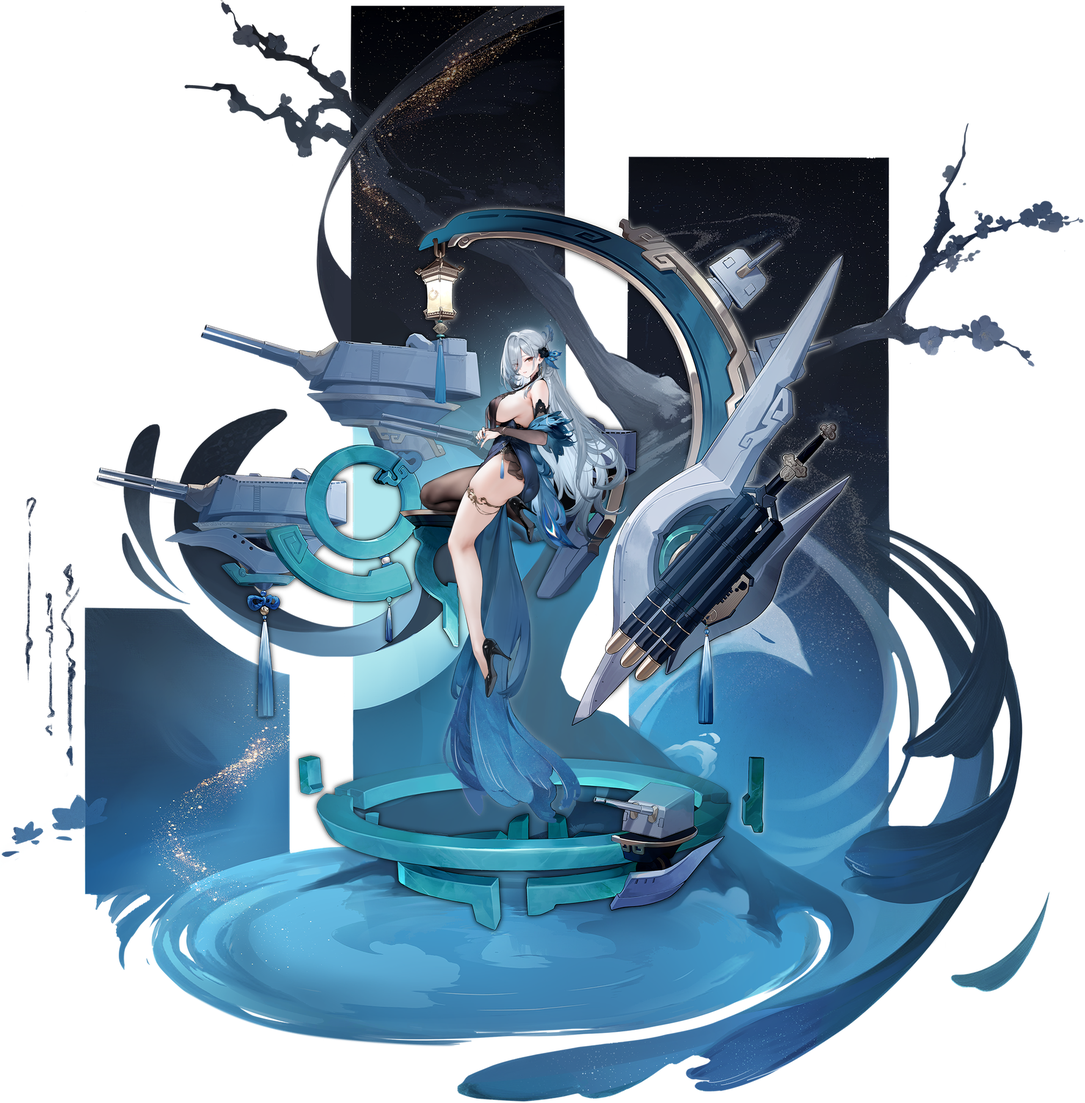person: (399, 308, 635, 718)
